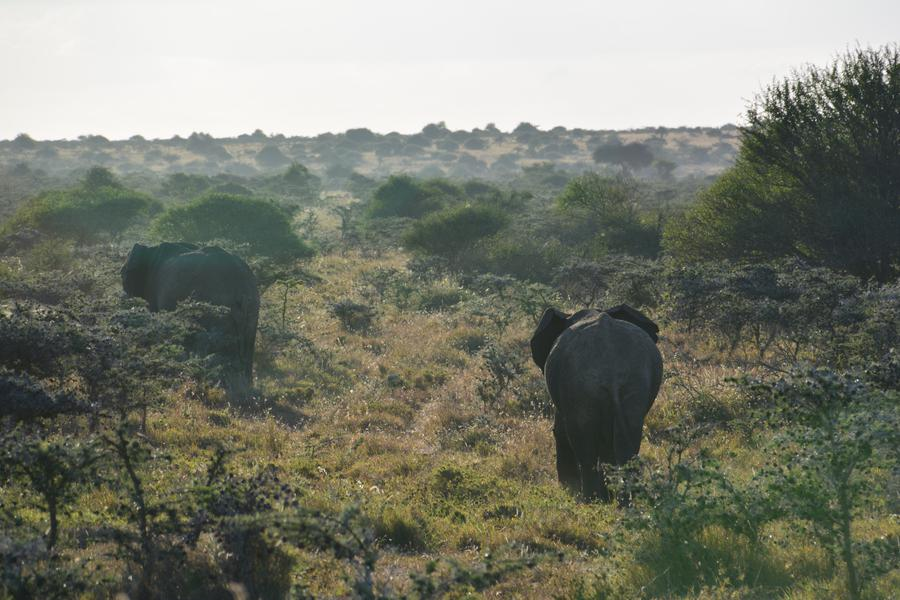elephant: (529, 302, 675, 481), (123, 237, 264, 381)
